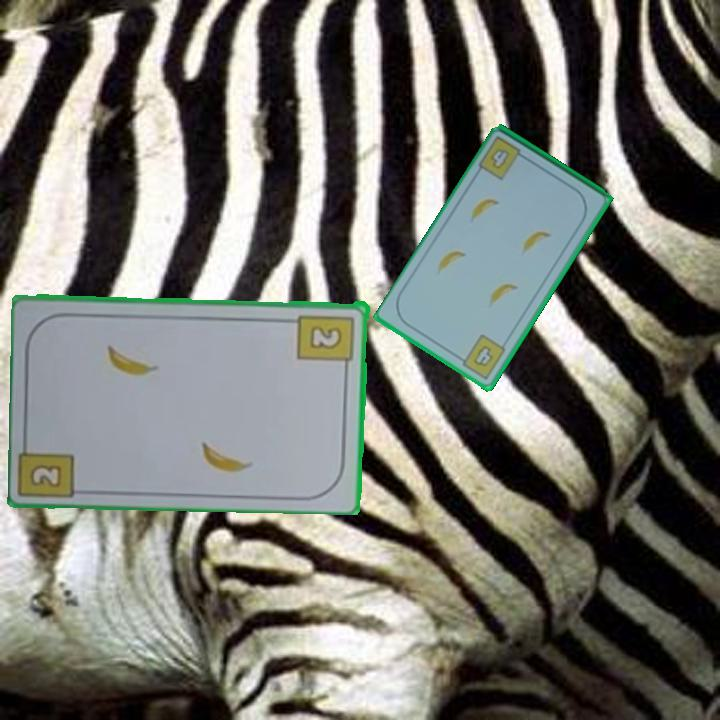2b: (295, 310, 357, 373), (26, 461, 65, 490)
4b: (454, 331, 509, 382), (475, 133, 531, 183)
